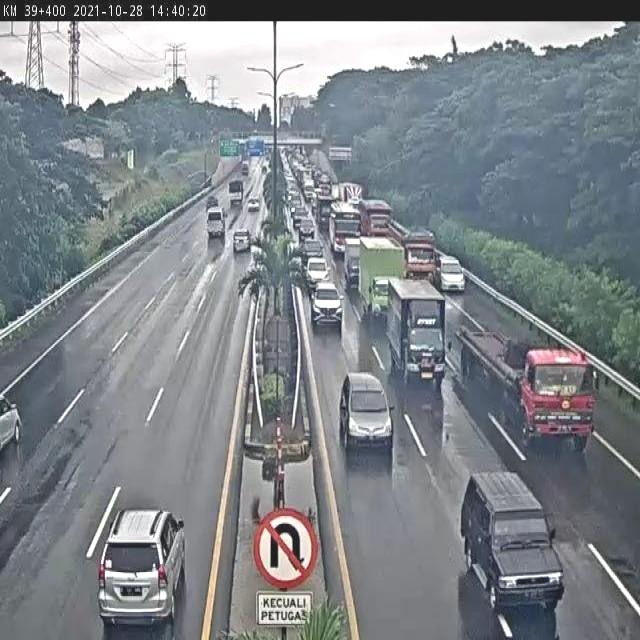Car: (459, 469, 561, 613), (97, 507, 186, 628), (329, 356, 406, 471), (0, 393, 22, 457), (437, 254, 465, 292), (305, 256, 331, 293), (232, 228, 251, 253), (206, 195, 219, 211)
Truck: (455, 323, 594, 454), (383, 278, 448, 393), (357, 236, 404, 323), (398, 369, 443, 448), (260, 435, 310, 478), (402, 228, 438, 284), (0, 442, 24, 520), (329, 202, 361, 256), (310, 281, 344, 331), (334, 182, 366, 228), (359, 199, 392, 238), (343, 239, 361, 292), (316, 190, 338, 231), (285, 266, 300, 321), (301, 238, 325, 270), (206, 206, 226, 239), (348, 132, 366, 168), (288, 258, 308, 290), (406, 227, 436, 248), (272, 467, 286, 512), (249, 244, 269, 272), (386, 220, 408, 245), (261, 451, 278, 482), (382, 232, 403, 257), (288, 244, 306, 271), (155, 148, 182, 166), (85, 137, 105, 160), (292, 160, 306, 192), (204, 145, 218, 177), (298, 216, 316, 240), (208, 236, 225, 261), (228, 180, 244, 206), (328, 146, 353, 162), (268, 139, 296, 153), (260, 220, 274, 247), (302, 176, 315, 204), (280, 104, 294, 129), (282, 145, 299, 165), (283, 175, 296, 201), (300, 156, 314, 180), (285, 190, 299, 213), (292, 206, 306, 228), (262, 155, 274, 180), (286, 237, 299, 260), (543, 513, 554, 540), (318, 178, 332, 199), (37, 158, 58, 172), (328, 185, 341, 206), (312, 185, 324, 207), (313, 168, 325, 188), (66, 102, 83, 115), (334, 239, 346, 257), (296, 130, 320, 139), (0, 396, 12, 414), (235, 139, 247, 156), (247, 197, 260, 212), (310, 192, 318, 214), (249, 148, 263, 160), (127, 149, 134, 170), (264, 142, 274, 156), (201, 176, 212, 188), (276, 135, 288, 146), (241, 153, 249, 168), (368, 282, 373, 304), (297, 146, 305, 159), (242, 162, 249, 176), (245, 137, 253, 148), (222, 208, 228, 222), (211, 132, 218, 144), (211, 127, 219, 137), (262, 164, 268, 173), (340, 293, 344, 305)
